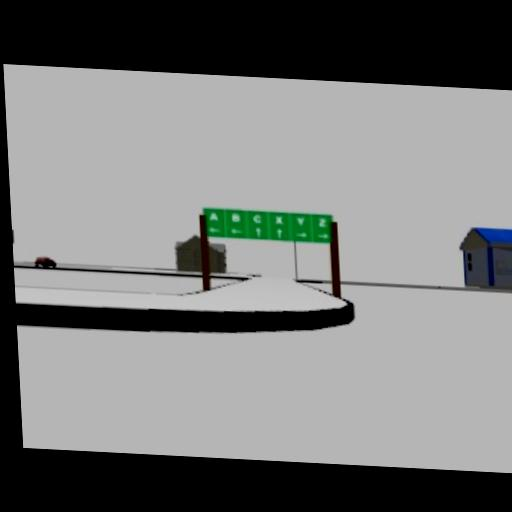A: (209, 211, 220, 222)
B: (230, 212, 241, 223)
C: (252, 214, 263, 224)
Left: (230, 227, 243, 236), (209, 226, 220, 235)
Right: (294, 231, 307, 239), (318, 232, 329, 240)
Straight: (276, 228, 283, 240), (255, 226, 262, 237)
X: (275, 215, 284, 225)
Y: (295, 216, 306, 226)
Z: (318, 218, 327, 228)
